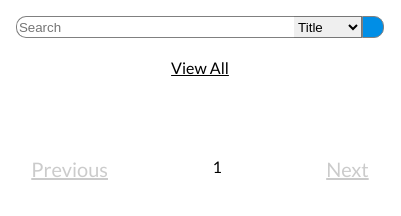
Test: Tenant home › search should not set properties when request is not successful
Click the 1st button at (373, 27), box [362,16,384,38]
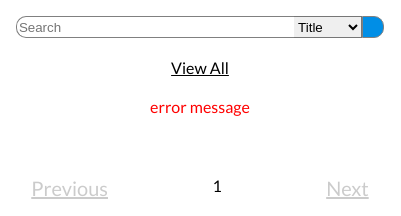
Now the text "error message" is shown, box [150,97,250,116]
